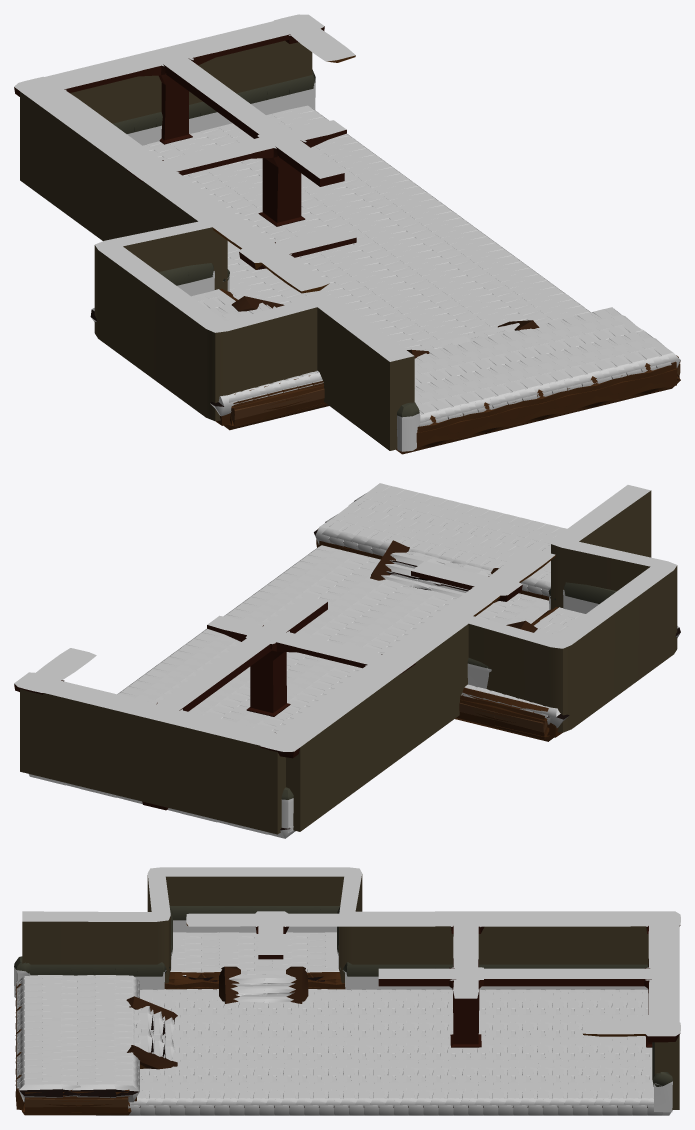
The model's file is Room1.fbx.
3 views of the same model, one above another, from view 1: azimuth 30°, elevation 25°; view 2: azimuth 150°, elevation 25°; view 3: azimuth 270°, elevation 25° (orthographic). The views are drawn at different scales.
Parts seen in each view (by area): view 1: Room; view 2: Room; view 3: Room.
Part boxes in pixels (x1=…): Room: x1=14, y1=14, x2=680, y2=454; Room: x1=14, y1=483, x2=680, y2=838; Room: x1=14, y1=867, x2=680, y2=1115.
Size of the model in its own units: 42.26 by 70.44 by 10.33.
